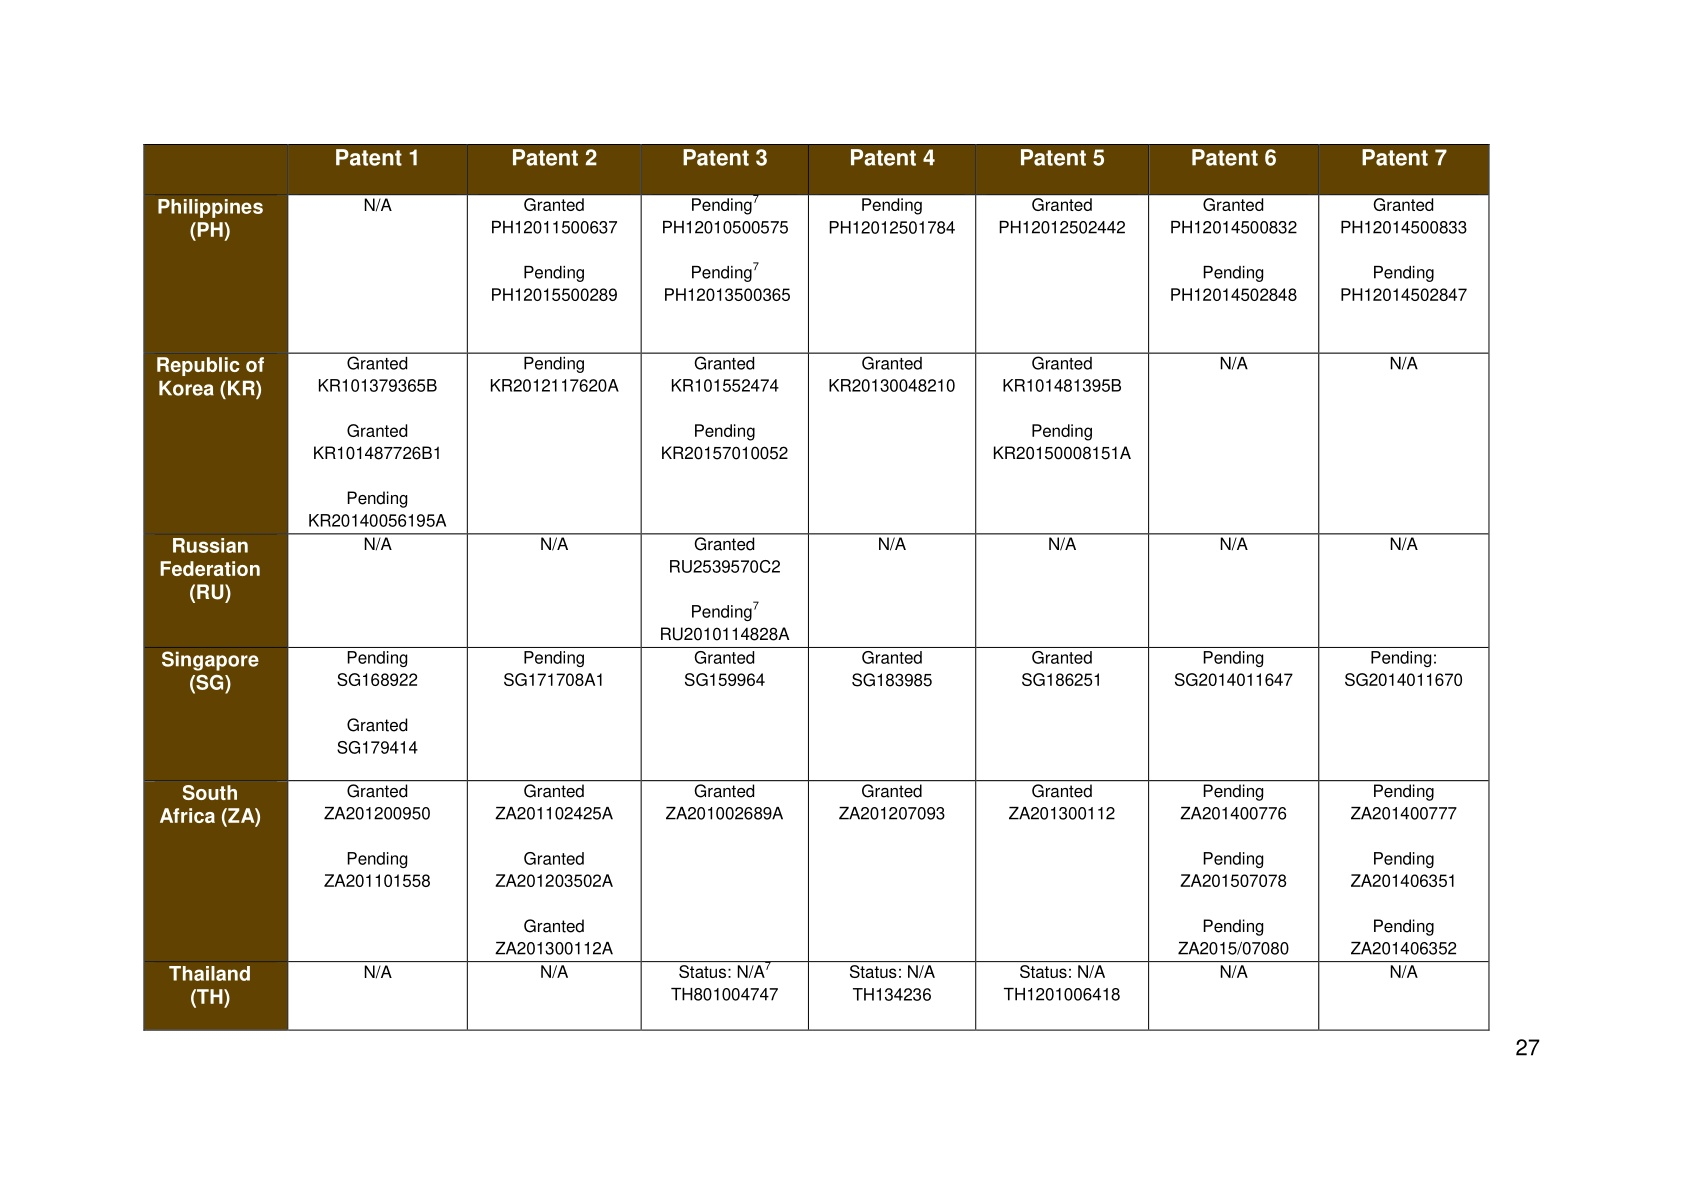full_lined: (142, 142, 1489, 1032)
